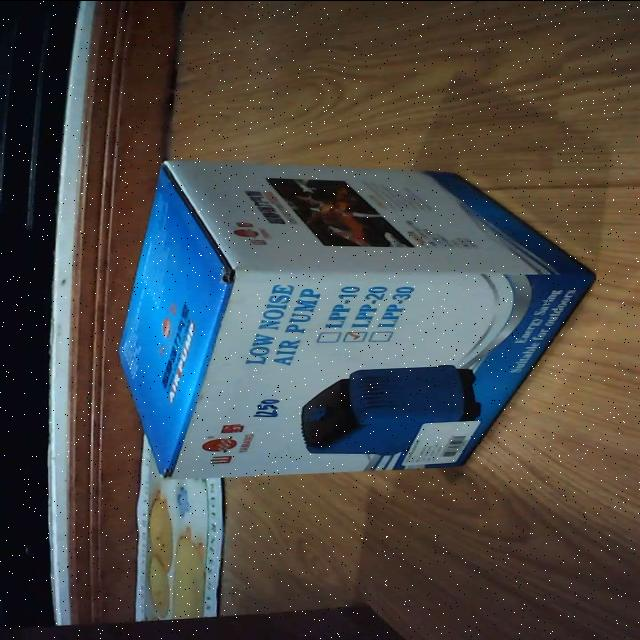YAMANO_LPP_20: (83, 146, 593, 488)
